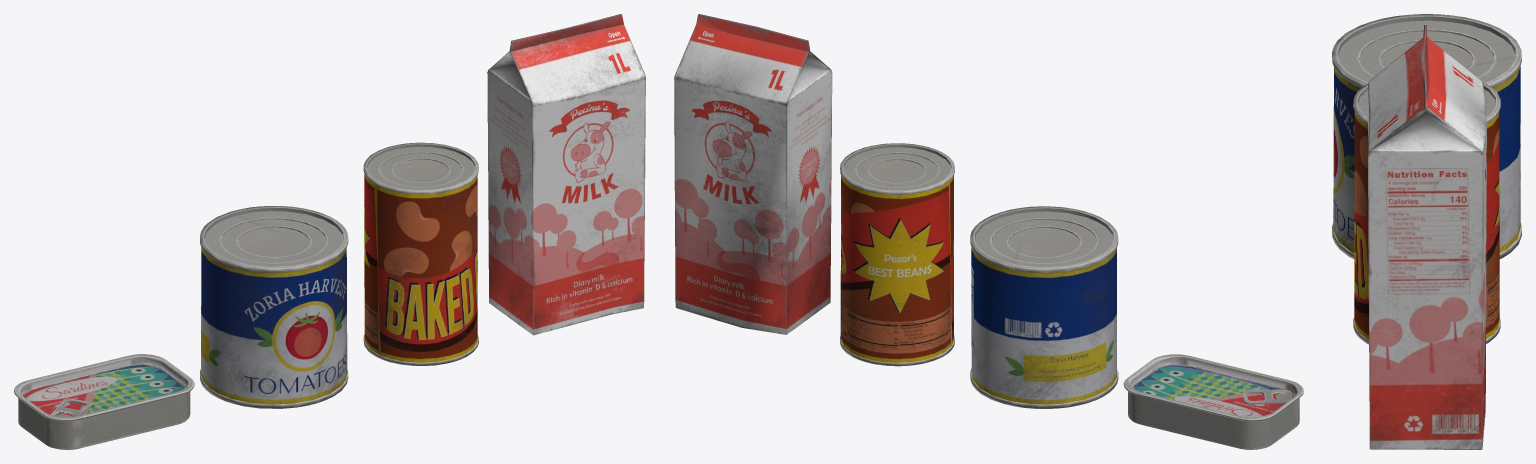
The model's file is long_life_food.glb.
3 renders of one model, left to right at view 1: azimuth 30°, elevation 25°; view 2: azimuth 150°, elevation 25°; view 3: azimuth 270°, elevation 25°, orthographic. The views are drawn at different scales.
Visible parts, largest first — view 1: long_life_food_milk, long_life_food_tomatoes, long_life_food_beans, long_life_food_sardines; view 2: long_life_food_milk, long_life_food_tomatoes, long_life_food_beans, long_life_food_sardines; view 3: long_life_food_milk, long_life_food_tomatoes, long_life_food_beans.
Part boxes in pixels (x1,y1,x2,y2): long_life_food_milk: [487, 14, 645, 335]; long_life_food_tomatoes: [200, 206, 348, 408]; long_life_food_beans: [363, 142, 478, 365]; long_life_food_sardines: [14, 354, 194, 449]; long_life_food_milk: [674, 14, 832, 334]; long_life_food_tomatoes: [970, 206, 1118, 408]; long_life_food_beans: [840, 143, 954, 366]; long_life_food_sardines: [1123, 354, 1303, 449]; long_life_food_milk: [1368, 25, 1486, 449]; long_life_food_tomatoes: [1332, 14, 1521, 258]; long_life_food_beans: [1353, 81, 1500, 344].
Size of the model in its own units: 0.5237 by 0.2372 by 0.1136.
1 material, 1 textured.
